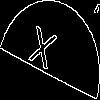X: (25, 25, 58, 80)
